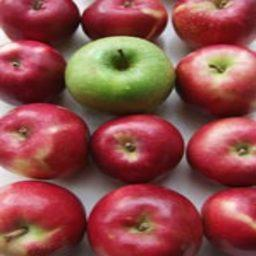apple: (64, 36, 176, 118), (92, 185, 210, 255), (91, 115, 185, 188), (1, 102, 90, 179), (1, 183, 86, 256), (177, 44, 255, 114), (187, 116, 254, 191), (171, 1, 255, 51), (1, 40, 68, 102), (200, 185, 256, 252), (1, 1, 80, 47), (79, 1, 167, 41)
